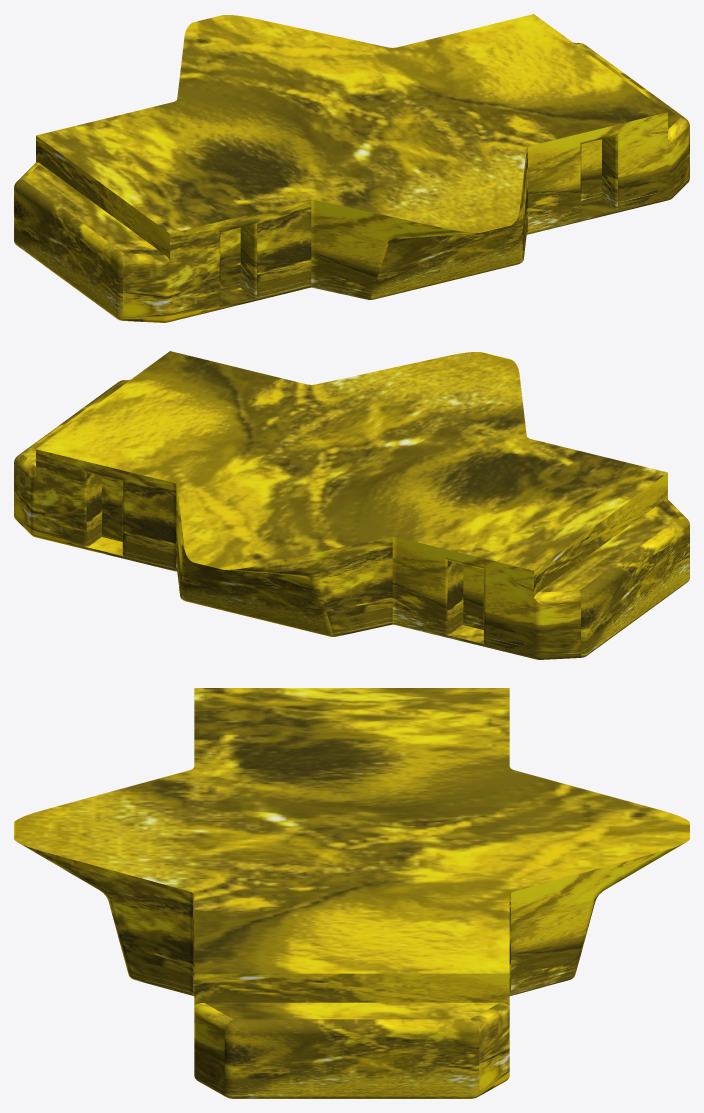
Rendered from chassis.dae.
The picture shows the model from 3 angles, top to bottom: view 1: azimuth 30°, elevation 25°; view 2: azimuth 150°, elevation 25°; view 3: azimuth 270°, elevation 25°; orthographic projection. The views are drawn at different scales.
Visible parts, largest first — view 1: Body_1; view 2: Body_1; view 3: Body_1.
Part boxes in pixels (<box>): Body_1: <box>14,14,689,322</box>; Body_1: <box>14,351,689,659</box>; Body_1: <box>14,688,689,1098</box>.
Bounding box in the file's own units: 1.38 × 1.2 × 0.207.
1 material, 1 textured.
